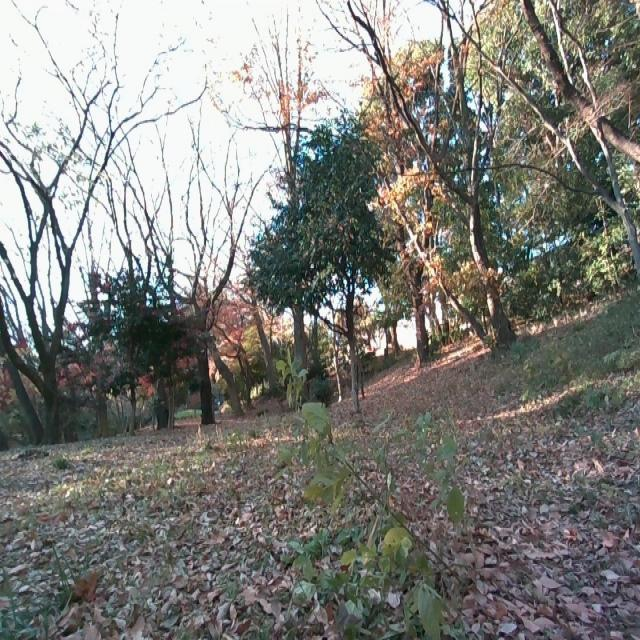bush: (253, 350, 478, 640)
tree: (339, 0, 529, 352), (0, 8, 138, 430), (466, 0, 640, 288), (250, 6, 325, 412), (132, 171, 245, 437)
